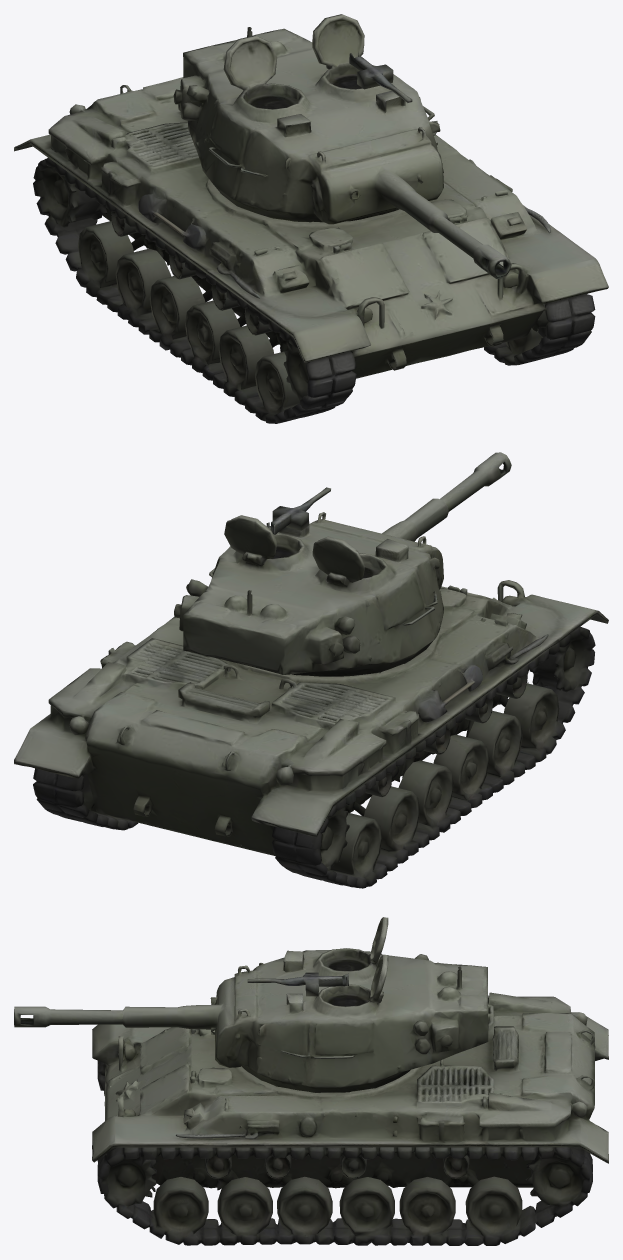
File: tanque.glb
3 views of the same model, one above another, from view 1: azimuth 30°, elevation 25°; view 2: azimuth 150°, elevation 25°; view 3: azimuth 270°, elevation 25° (orthographic). The views are drawn at different scales.
Parts seen in each view (by area): view 1: tripo_node_cef4a2d6-d206-4eb5-bd80-be5e51aa3bb9; view 2: tripo_node_cef4a2d6-d206-4eb5-bd80-be5e51aa3bb9; view 3: tripo_node_cef4a2d6-d206-4eb5-bd80-be5e51aa3bb9.
Boxes of the visible parts, <box> form: tripo_node_cef4a2d6-d206-4eb5-bd80-be5e51aa3bb9: <box>14,14,608,423</box>; tripo_node_cef4a2d6-d206-4eb5-bd80-be5e51aa3bb9: <box>14,452,608,888</box>; tripo_node_cef4a2d6-d206-4eb5-bd80-be5e51aa3bb9: <box>14,917,608,1245</box>.
Bounding box in the file's own units: 3.65 × 3.2 × 7.
Materials: 1 (1 with a texture image).
